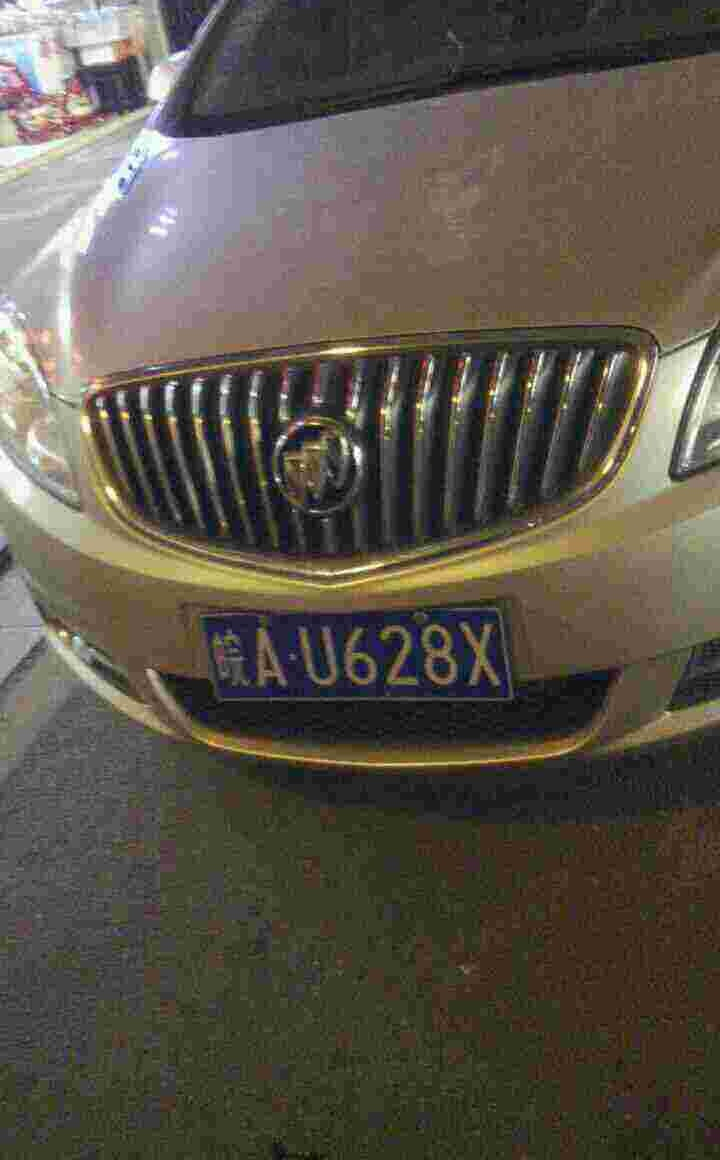license_plate: (201, 614, 523, 712)
